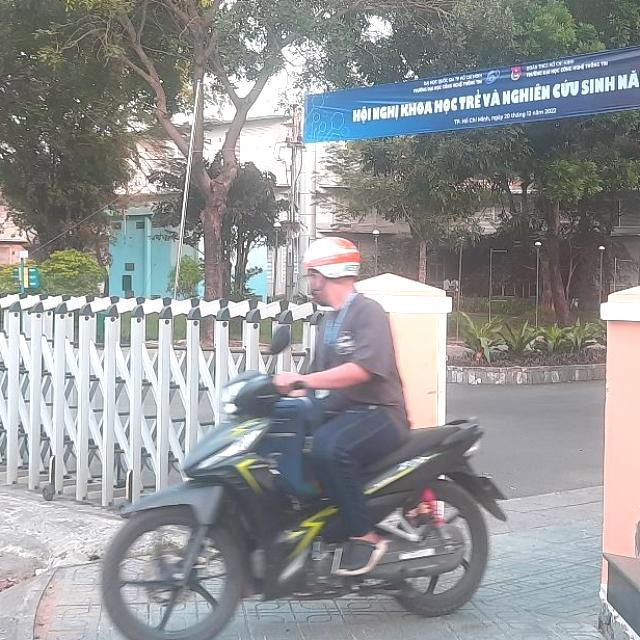Helmet: (300, 236, 362, 308)
